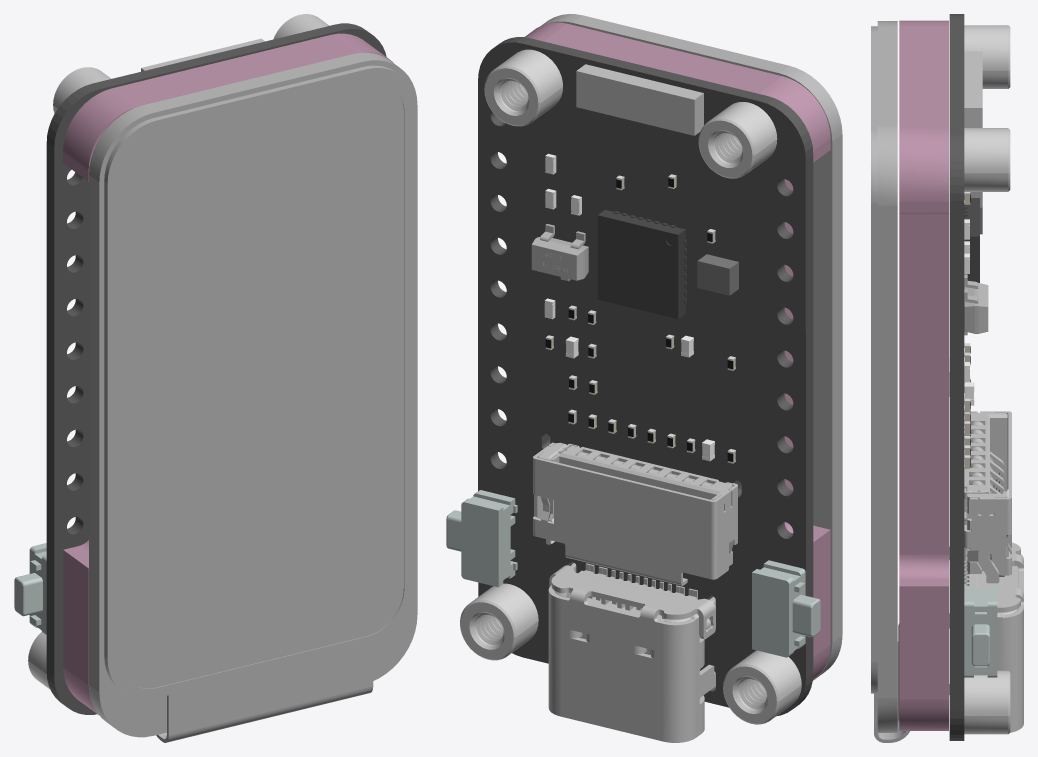
The model's file is esp32-c6-lcd-1.47.glb.
3 renders of one model, left to right at view 1: azimuth 30°, elevation 25°; view 2: azimuth 150°, elevation 25°; view 3: azimuth 270°, elevation 25°, orthographic. The views are drawn at different scales.
Parts seen in each view (by area): view 1: 1_47INCH-172X320-LCD, BOARD, ESP32-S3-LCD-1_47-PMMA, SMTSO-M2-2_5ET (×3), SWITCH-TS24CA; view 2: BOARD, SOLID-216480, SMTSO-M2-2_5ET (×4), object 182, 1_47INCH-172X320-LCD, ESP32-S3-LCD-1_47-PMMA, SWITCH-TS24CA (×2), USER_LIBRARY-ESP8266EX, C3, SHELL, SOT-23, EXTRUDED-335204 (+1 smaller); view 3: ESP32-S3-LCD-1_47-PMMA, 1_47INCH-172X320-LCD, BOARD, SMTSO-M2-2_5ET (×3), SOLID-216480, SHELL, SWITCH-TS24CA, object 182, C3, SOT-23, USER_LIBRARY-ESP8266EX, object 181 (+1 smaller).
Boxes of the visible parts, <box> form: 1_47INCH-172X320-LCD: <box>89,52,417,742</box>; BOARD: <box>46,23,386,714</box>; ESP32-S3-LCD-1_47-PMMA: <box>63,33,393,714</box>; SMTSO-M2-2_5ET (×3): <box>28,14,329,689</box>; SWITCH-TS24CA: <box>14,543,46,635</box>; BOARD: <box>478,37,813,716</box>; SOLID-216480: <box>548,563,715,742</box>; SMTSO-M2-2_5ET (×4): <box>460,49,801,724</box>; object 182: <box>533,442,737,585</box>; 1_47INCH-172X320-LCD: <box>542,14,842,680</box>; ESP32-S3-LCD-1_47-PMMA: <box>524,22,830,678</box>; SWITCH-TS24CA (×2): <box>446,490,820,657</box>; USER_LIBRARY-ESP8266EX: <box>597,210,686,318</box>; C3: <box>576,64,703,135</box>; SHELL: <box>538,442,732,566</box>; SOT-23: <box>531,224,588,281</box>; EXTRUDED-335204: <box>697,254,738,295</box>; ESP32-S3-LCD-1_47-PMMA: <box>899,20,948,730</box>; 1_47INCH-172X320-LCD: <box>871,21,909,742</box>; BOARD: <box>949,14,964,740</box>; SMTSO-M2-2_5ET (×3): <box>964,25,1010,734</box>; SOLID-216480: <box>949,542,1023,732</box>; SHELL: <box>964,411,1007,573</box>; SWITCH-TS24CA: <box>964,585,997,677</box>; object 182: <box>964,411,1011,575</box>; C3: <box>964,51,982,127</box>; SOT-23: <box>964,274,988,335</box>; USER_LIBRARY-ESP8266EX: <box>964,198,979,282</box>; object 181: <box>964,507,999,583</box>.
Bounding box in the file's own units: 22.72 × 37.59 × 8.35.
